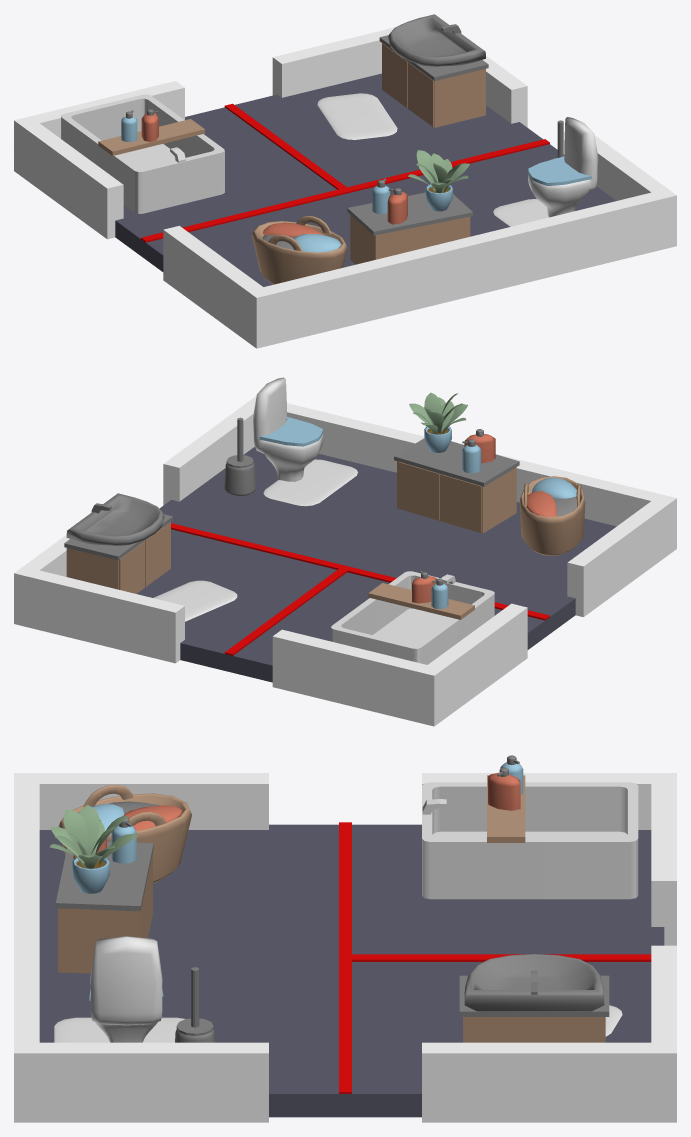
The model's file is T_SalleDeBain_Classique.fbx.
3 renders of one model, top to bottom at view 1: azimuth 30°, elevation 25°; view 2: azimuth 150°, elevation 25°; view 3: azimuth 270°, elevation 25°, orthographic. The views are drawn at different scales.
Visible parts, largest first — view 1: T_SalleDeBain_Classique; view 2: T_SalleDeBain_Classique; view 3: T_SalleDeBain_Classique.
Part boxes in pixels (<box>): T_SalleDeBain_Classique: <box>14,14,676,348</box>; T_SalleDeBain_Classique: <box>14,377,676,726</box>; T_SalleDeBain_Classique: <box>14,755,676,1122</box>.
Bounding box in the file's own units: 26 × 7.16 × 26.
